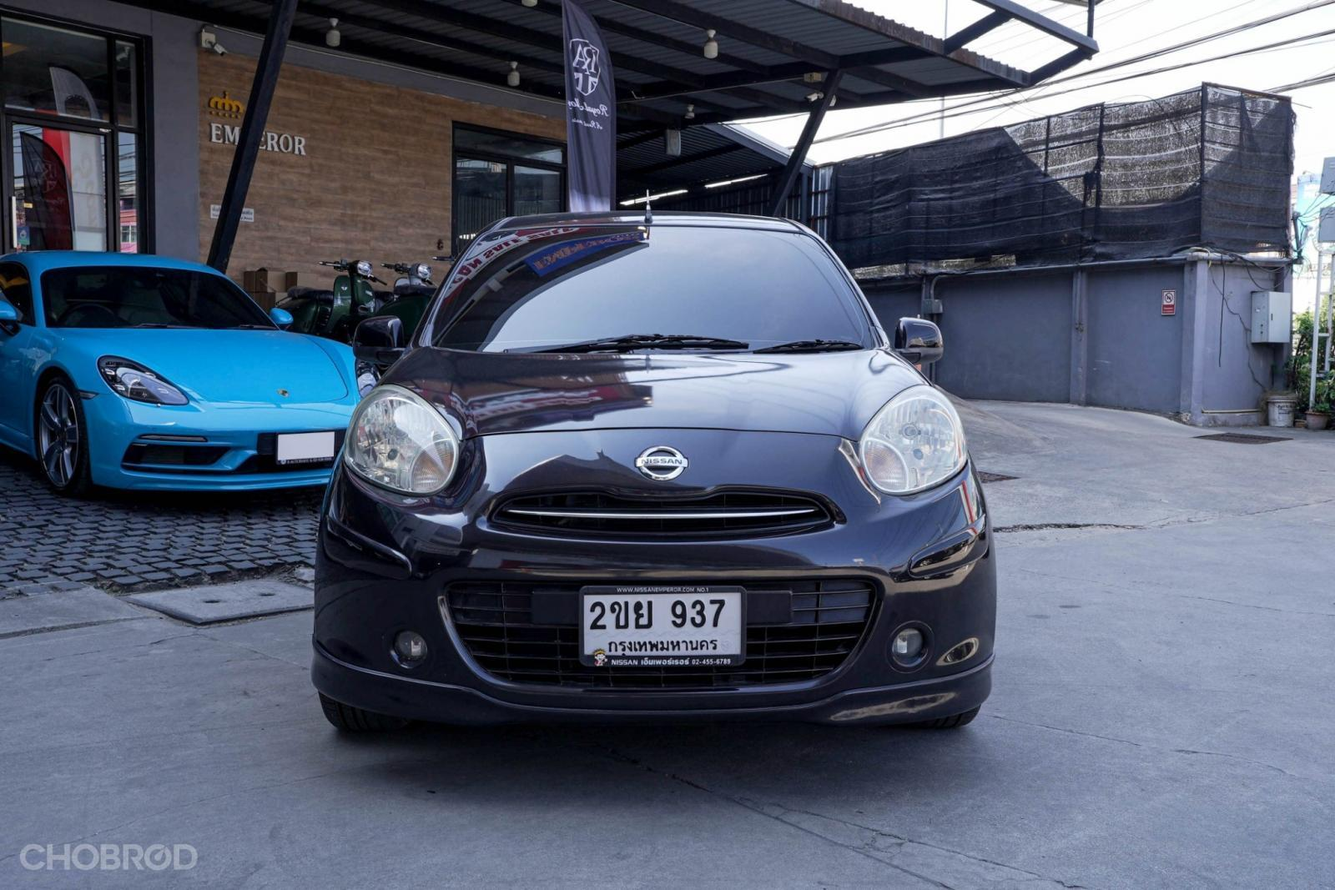license-plate: (571, 576, 748, 684)
